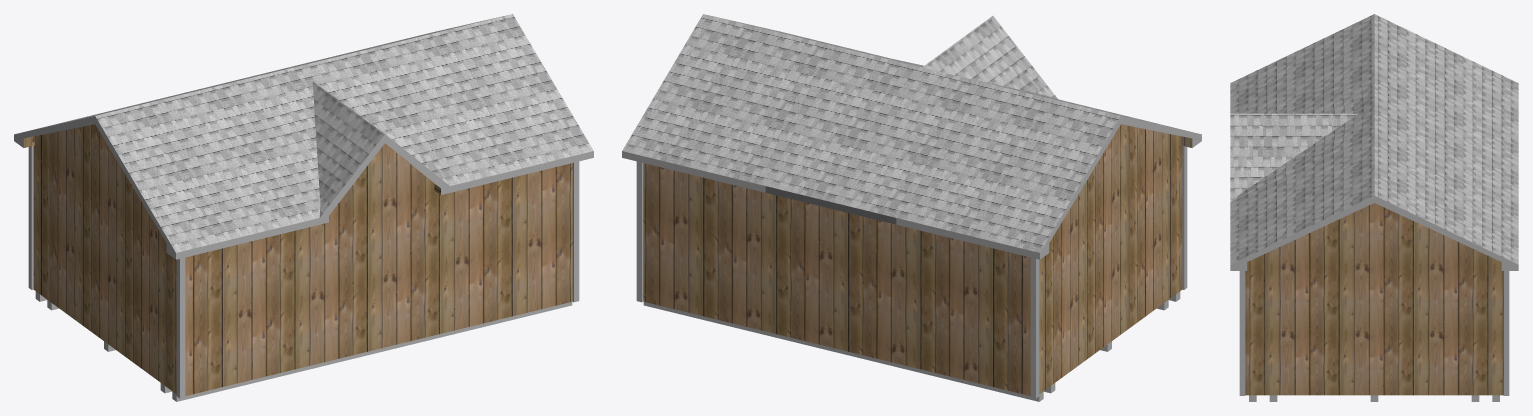
File: Victorian Shed_12x18.obj
3 views of the same model, side by side, from view 1: azimuth 30°, elevation 25°; view 2: azimuth 150°, elevation 25°; view 3: azimuth 270°, elevation 25° (orthographic). The views are drawn at different scales.
Parts seen in each view (by area): view 1: Shed, Roof, Sides, Trim, Floor; view 2: Shed, Roof, Sides, Trim, Floor; view 3: Roof, Shed, Sides, Trim, Floor.
Boxes of the visible parts, x1=… form: Shed: x1=23, y1=124, x2=572, y2=395; Roof: x1=23, y1=14, x2=593, y2=252; Sides: x1=14, y1=116, x2=593, y2=259; Trim: x1=28, y1=146, x2=579, y2=398; Floor: x1=35, y1=291, x2=572, y2=401; Shed: x1=643, y1=124, x2=1192, y2=395; Roof: x1=622, y1=14, x2=1192, y2=252; Sides: x1=622, y1=116, x2=1201, y2=259; Trim: x1=636, y1=146, x2=1187, y2=398; Floor: x1=643, y1=291, x2=1180, y2=401; Roof: x1=1230, y1=14, x2=1518, y2=264; Shed: x1=1245, y1=203, x2=1503, y2=395; Sides: x1=1230, y1=195, x2=1518, y2=270; Trim: x1=1239, y1=271, x2=1509, y2=395; Floor: x1=1249, y1=395, x2=1499, y2=401.
Bounding box in the file's own units: 5.79 × 3.14 × 3.89.
